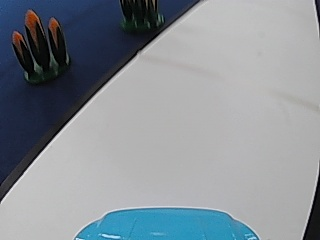corn: (11, 8, 72, 84), (122, 0, 162, 33)
